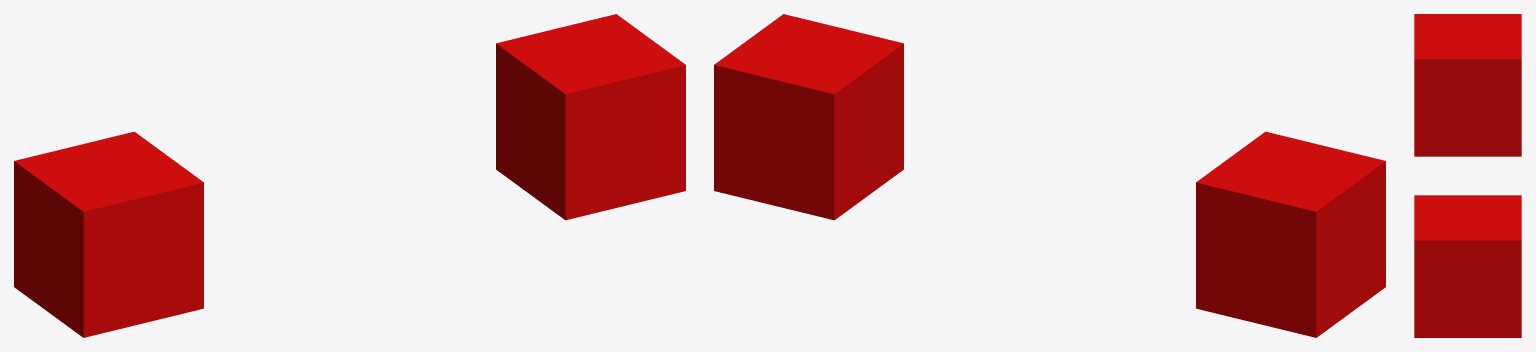
File: 2Boxes.glb
The picture shows the model from 3 angles, left to right: view 1: azimuth 30°, elevation 25°; view 2: azimuth 150°, elevation 25°; view 3: azimuth 270°, elevation 25°; orthographic projection. The views are drawn at different scales.
Parts seen in each view (by area): view 1: Node #1, Node #2; view 2: Node #1, Node #2; view 3: Node #1, Node #2.
Part boxes in pixels (x1,y1,x2,y2): Node #1: (14, 131, 203, 337); Node #2: (496, 14, 685, 220); Node #1: (1196, 131, 1385, 337); Node #2: (714, 14, 903, 220); Node #1: (1414, 14, 1521, 156); Node #2: (1414, 195, 1521, 337).
Bounding box in the file's own units: 5 × 1 × 1.
